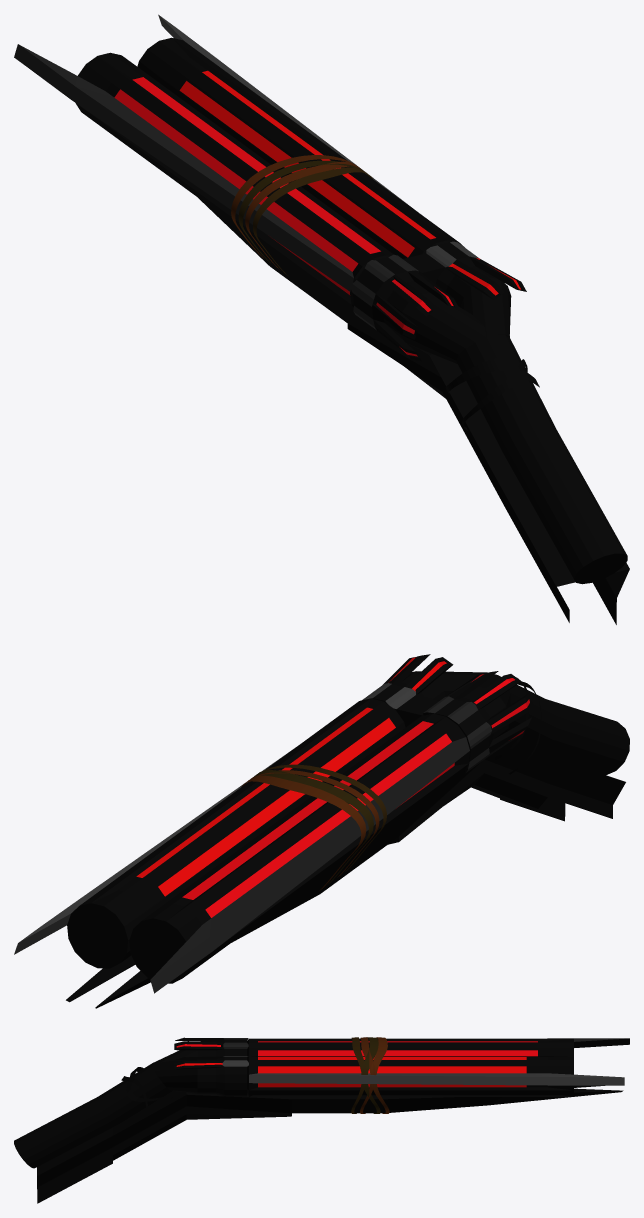
The model's file is ShotGun32.fbx.
3 views of the same model, one above another, from view 1: azimuth 30°, elevation 25°; view 2: azimuth 150°, elevation 25°; view 3: azimuth 270°, elevation 25° (orthographic). The views are drawn at different scales.
Parts seen in each view (by area): view 1: Окружность.002, Окружность.001, BézierCircle.003, BézierCircle, BézierCircle.001, BézierCircle.002, BézierCircle.004; view 2: Окружность.002, Окружность.001, BézierCircle.001, BézierCircle.002, BézierCircle.003, BézierCircle; view 3: Окружность.002, Окружность.001, BézierCircle.001, BézierCircle.002, BézierCircle.003, BézierCircle, BézierCircle.004.
Boxes of the visible parts, x1,y1,x2,y2 form: Окружность.002: [14, 44, 629, 624]; Окружность.001: [137, 14, 526, 341]; BézierCircle.003: [253, 167, 372, 275]; BézierCircle: [245, 161, 359, 269]; BézierCircle.001: [231, 155, 365, 258]; BézierCircle.002: [238, 160, 372, 262]; BézierCircle.004: [445, 358, 539, 393]; Окружность.002: [66, 671, 629, 1008]; Окружность.001: [14, 654, 499, 968]; BézierCircle.001: [241, 775, 366, 890]; BézierCircle.002: [254, 770, 373, 884]; BézierCircle.003: [254, 764, 386, 871]; BézierCircle: [242, 770, 379, 877]; Окружность.002: [14, 1037, 629, 1203]; Окружность.001: [152, 1049, 624, 1096]; BézierCircle.001: [370, 1037, 389, 1113]; BézierCircle.002: [361, 1037, 380, 1113]; BézierCircle.003: [351, 1037, 366, 1113]; BézierCircle: [360, 1037, 375, 1113]; BézierCircle.004: [126, 1067, 174, 1101].
Size of the model in its own units: 812 by 1390 by 5128.
